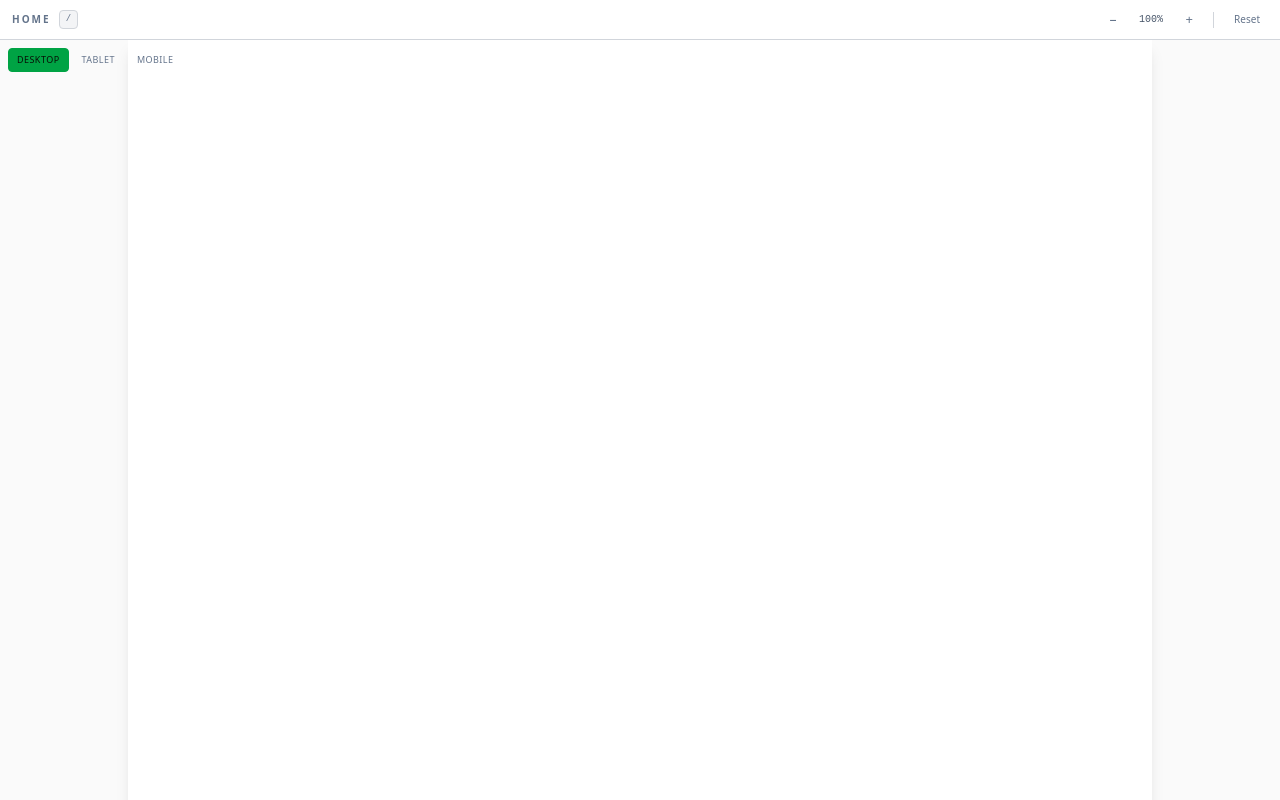
Scenario: VisualEditorCanvas › decreases zoom when minus button is clicked
This screenshot has width=1280, height=800.
Click the button "−".
click(1113, 20)  # box [1101,8,1125,32]
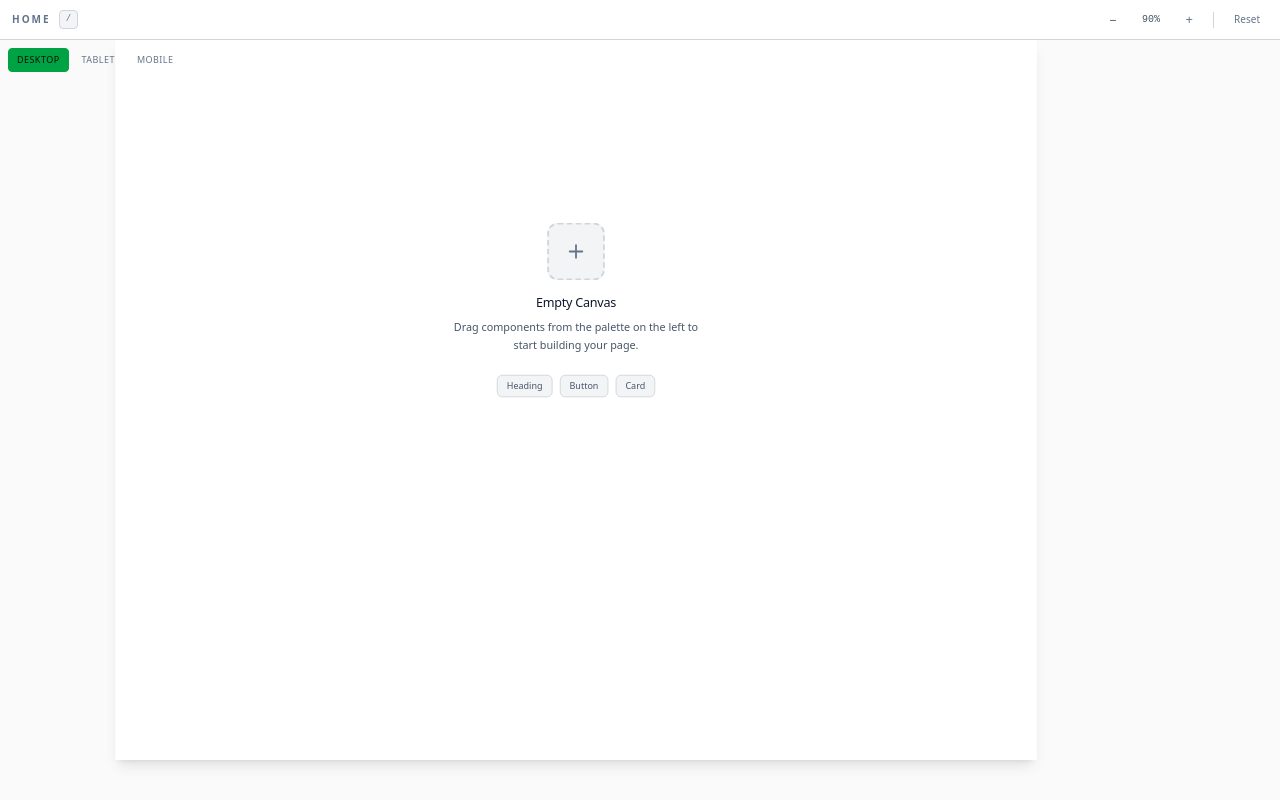
Check: the text "90%" is shown, box [1142,14,1160,25]
